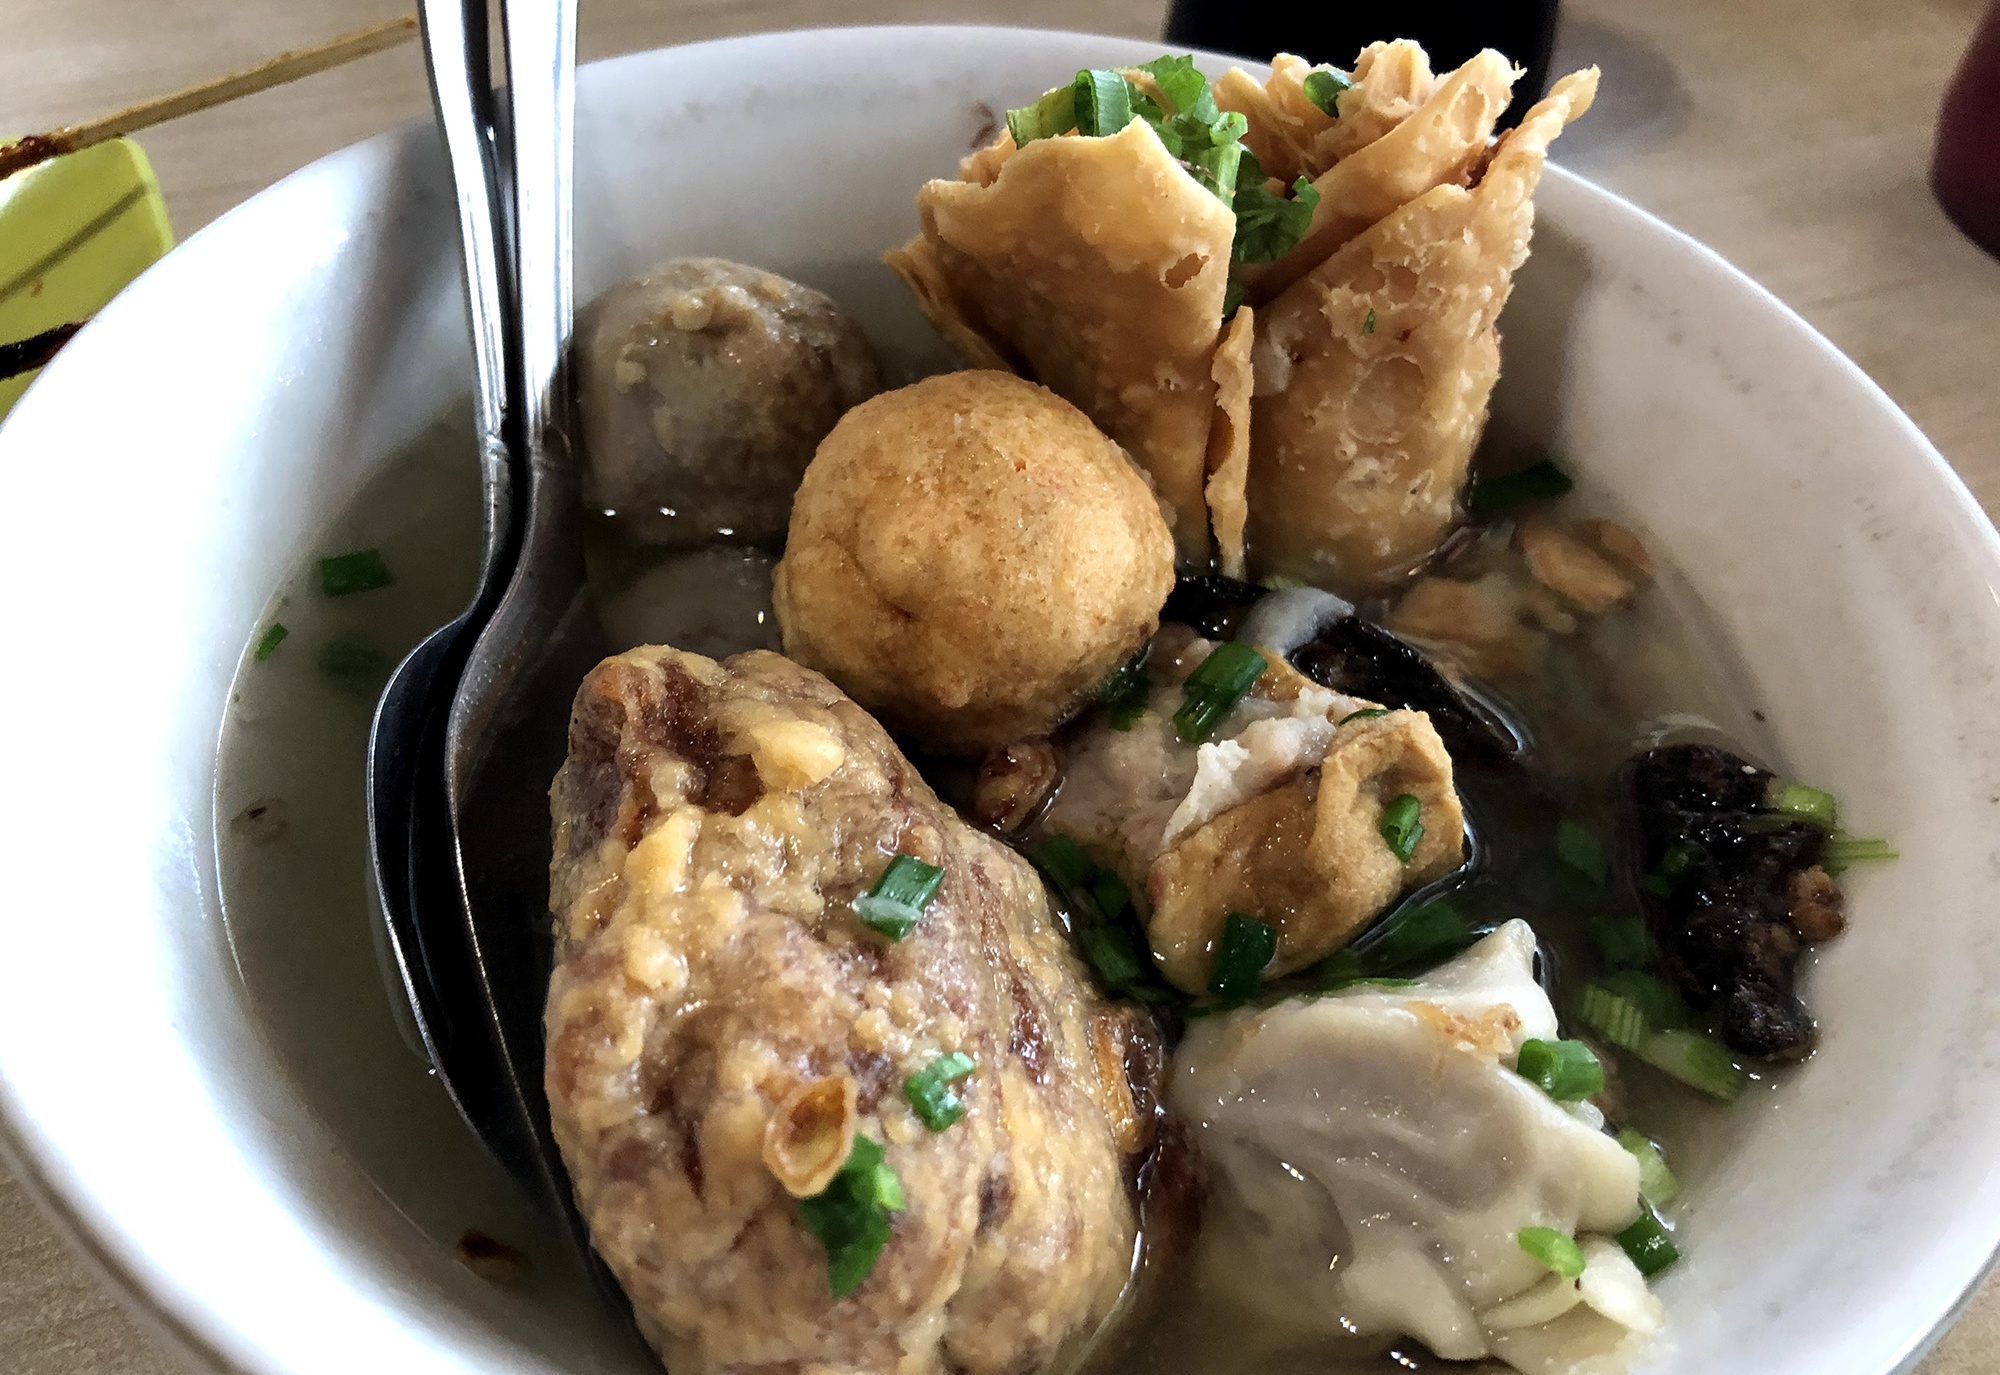bakso_malang: (552, 33, 1848, 1375)
